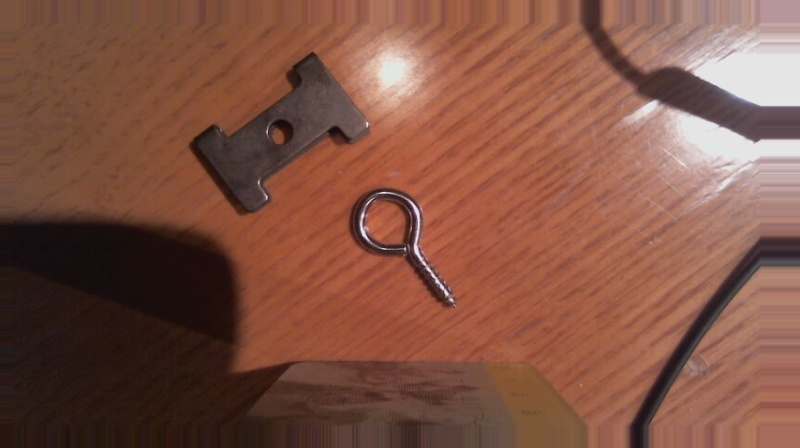O001: (349, 187, 462, 314)
O002: (185, 49, 375, 213)
